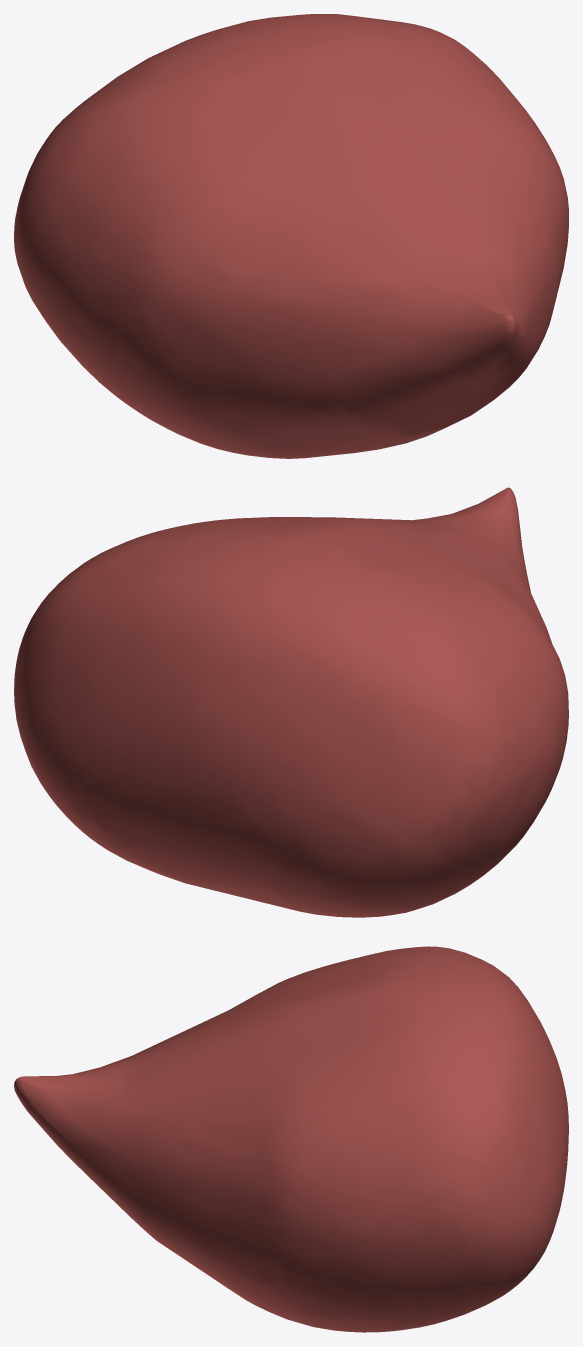
Rendered from FMA15900.glb.
3 renders of one model, top to bottom at view 1: azimuth 30°, elevation 25°; view 2: azimuth 150°, elevation 25°; view 3: azimuth 270°, elevation 25°, orthographic. The views are drawn at different scales.
Visible parts, largest first — view 1: FMA15900; view 2: FMA15900; view 3: FMA15900.
Boxes of the visible parts, <box> form: FMA15900: <box>14,14,568,458</box>; FMA15900: <box>14,487,568,917</box>; FMA15900: <box>14,946,568,1332</box>.
Bounding box in the file's own units: 0.0726 × 0.0516 × 0.0828.
